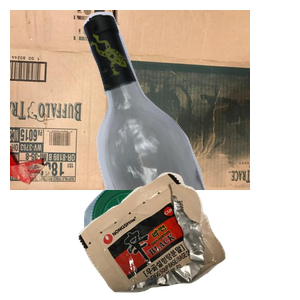cardboard: (10, 10, 250, 190)
glass: (81, 10, 300, 190)
plastic: (81, 179, 239, 300)
trash: (76, 170, 300, 300)
